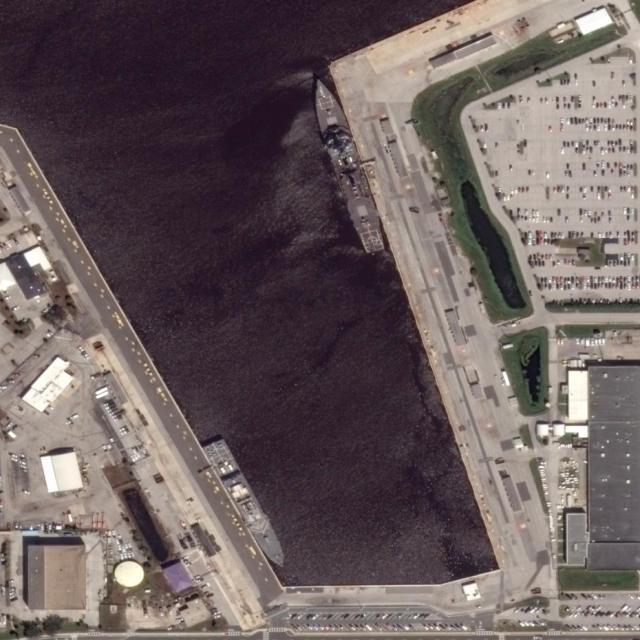Destroyer: (308, 74, 386, 256)
Frigate: (204, 437, 292, 572)
